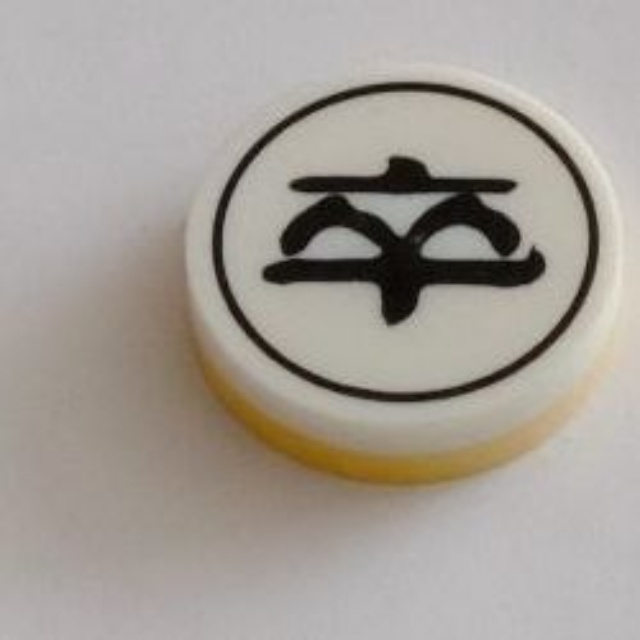black_chot: (176, 58, 631, 494)
